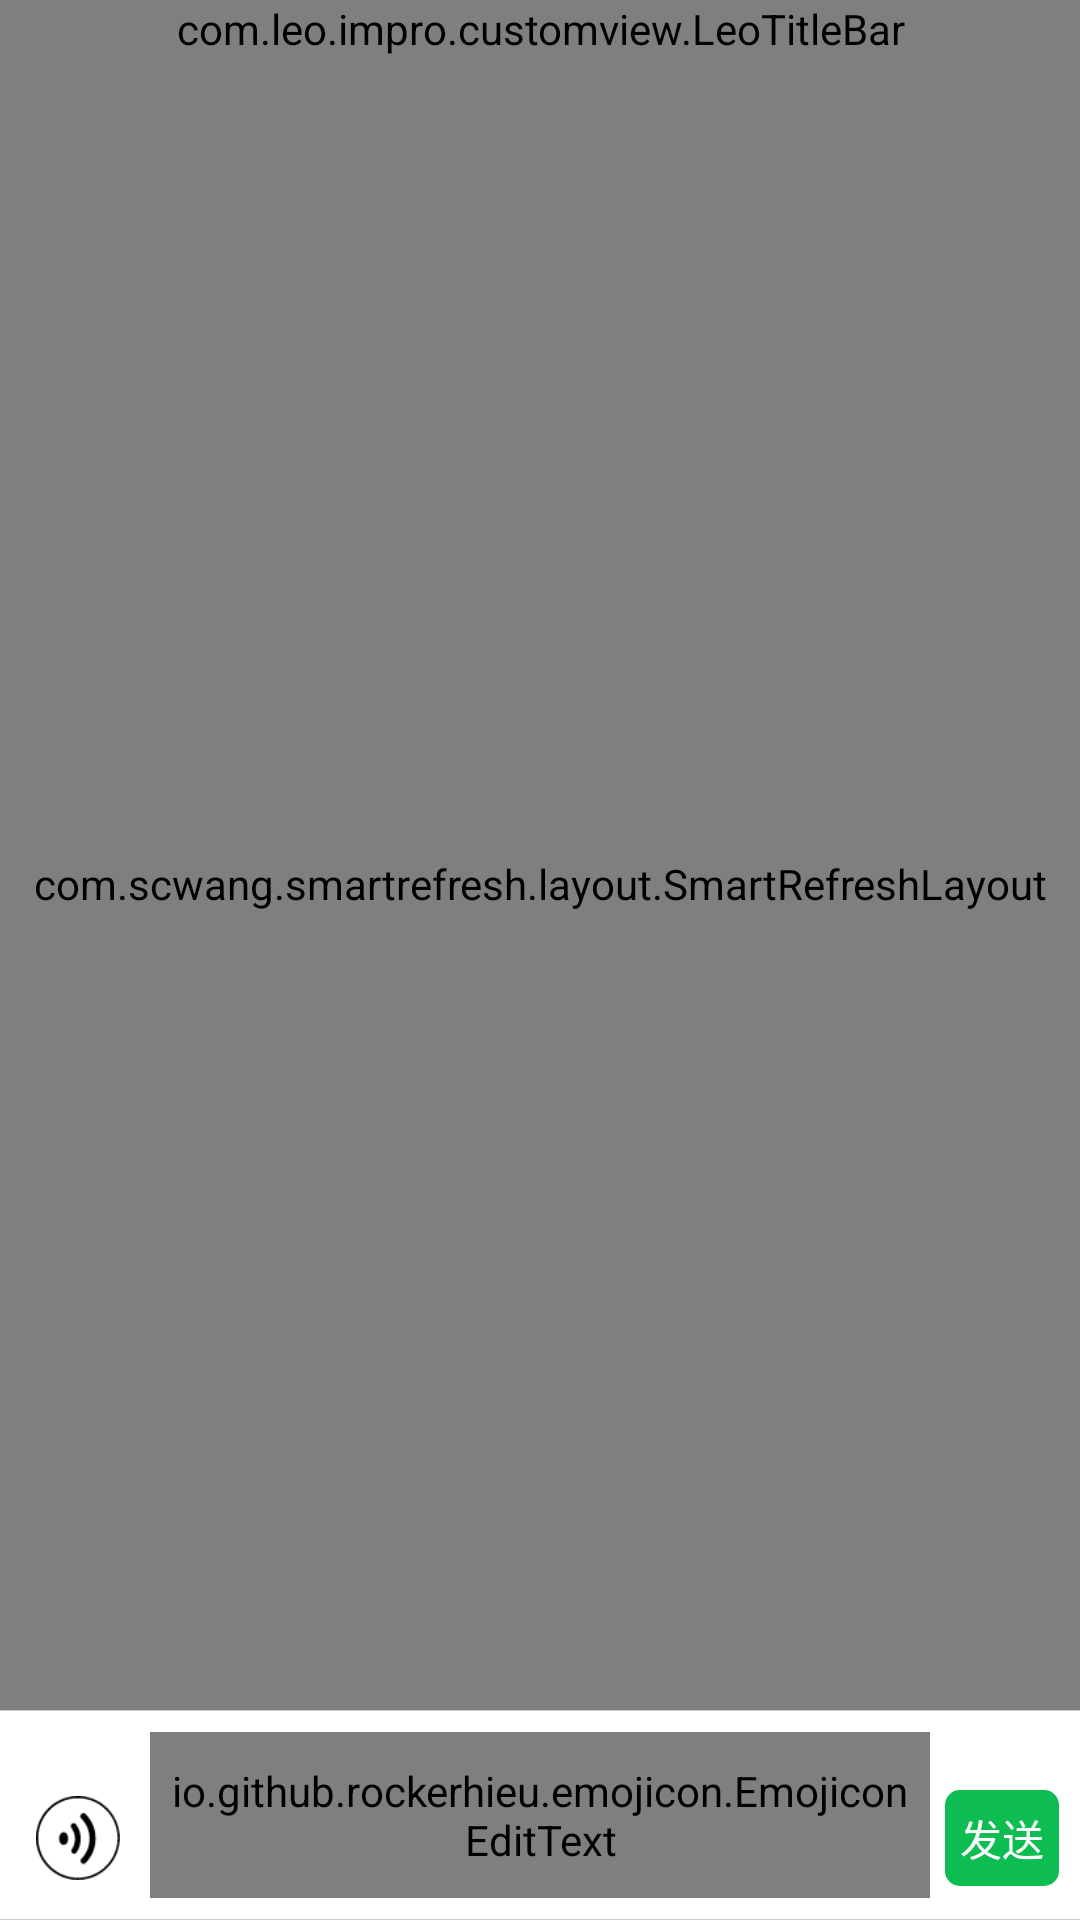

Icons on this 1080 × 1920 Android screen, each with the point to tap as [x,y]:
emj voice: [78,1838]
